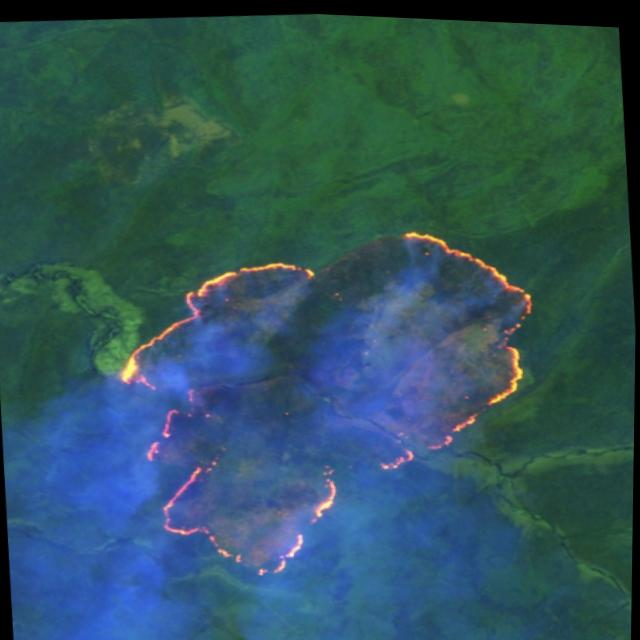fire: (93, 198, 564, 596)
